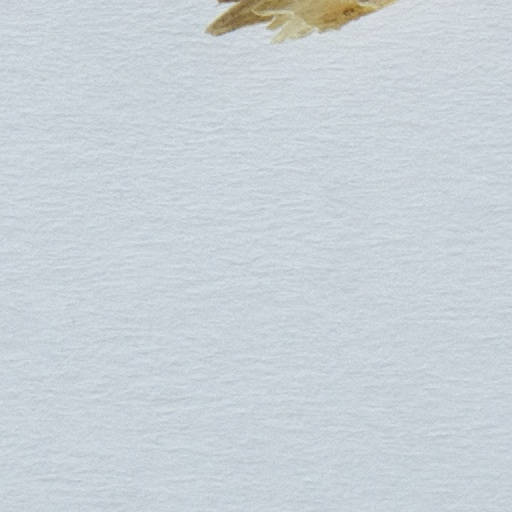Peel-poly: (205, 0, 406, 41)
